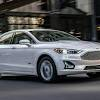Ford: (1, 26, 100, 83)
